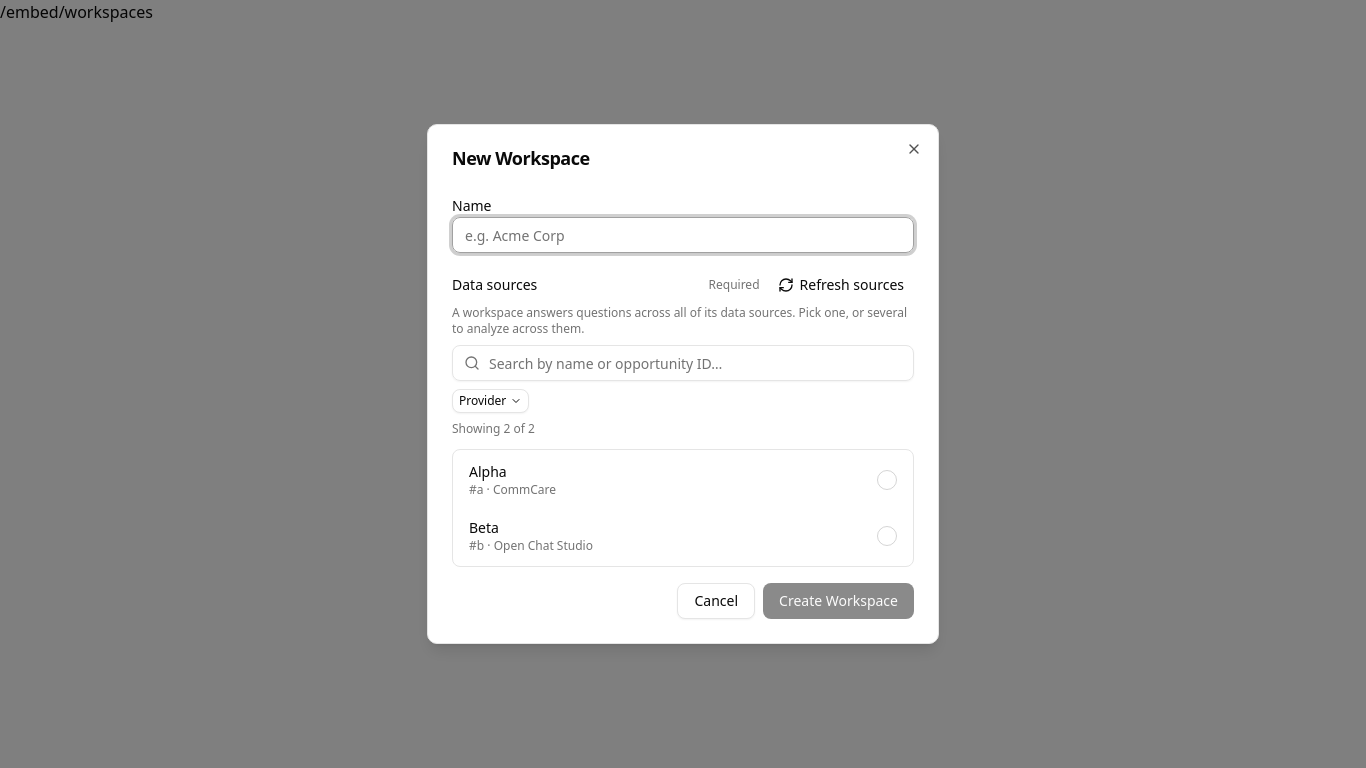
Test: keeps the embed prefix when opening the new workspace's chat
expect the element with test id "create-sources-list" is shown: met, box [452,449,914,567]
Type "Analysis" into the field labelled "Name" at (683, 235), box [452,217,914,253]
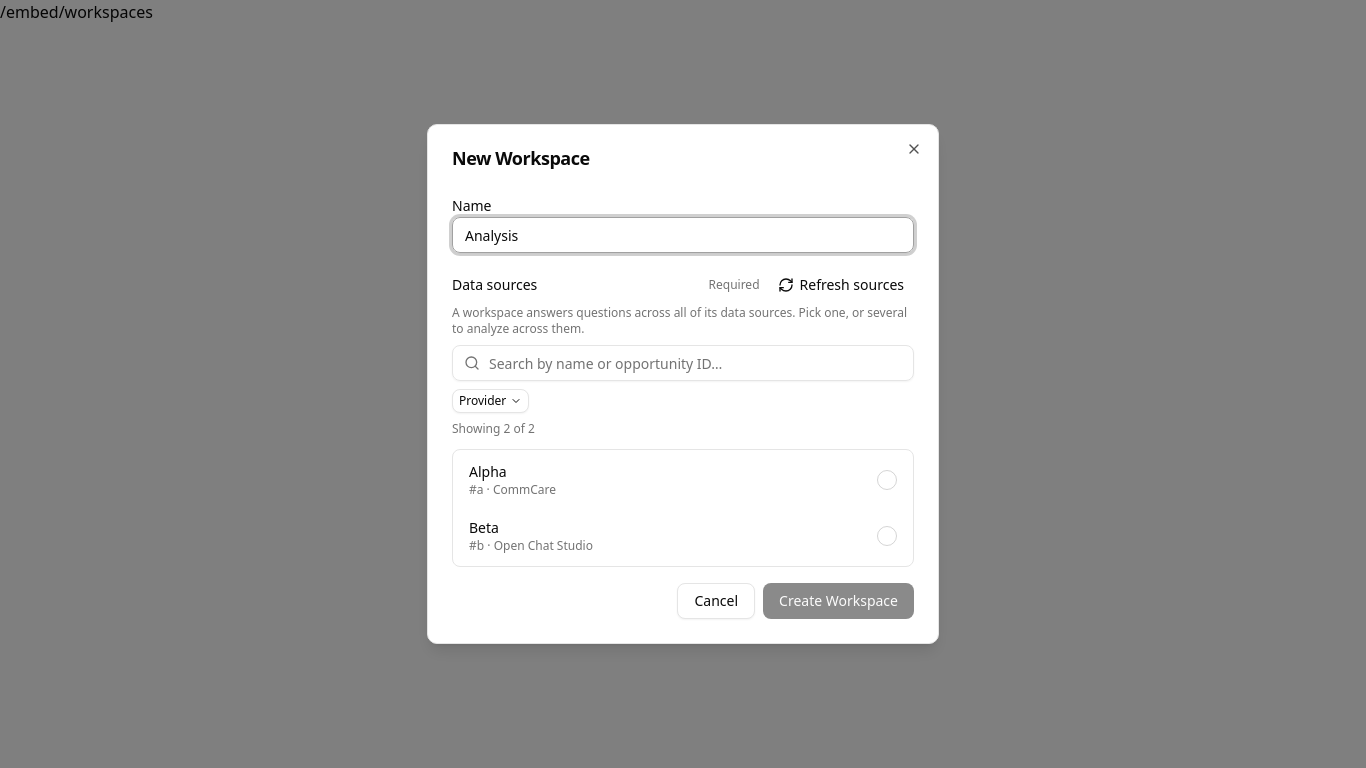
Click the button with test id "create-source-tenant-a" at (488, 472), box [457,454,909,506]
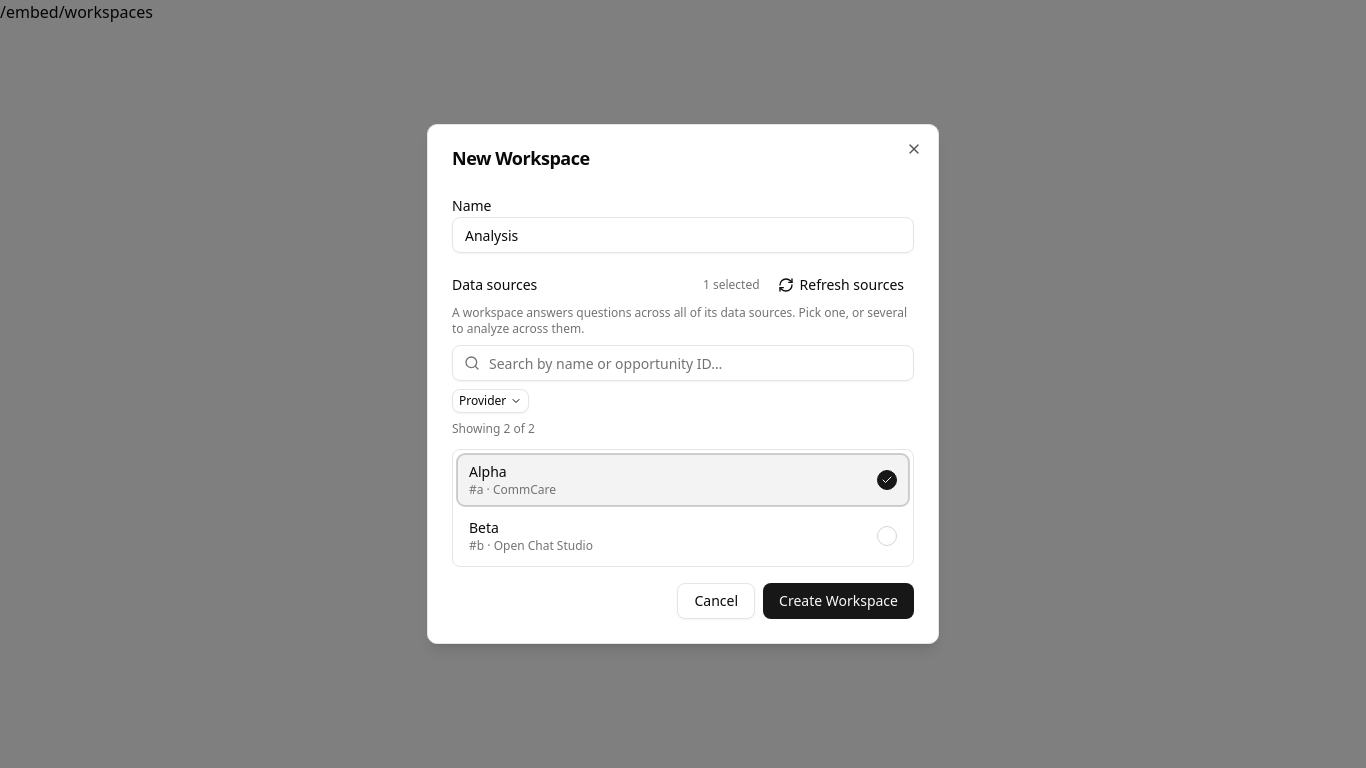
Click the button with test id "create-workspace-submit" at (838, 601), box [763,583,914,619]
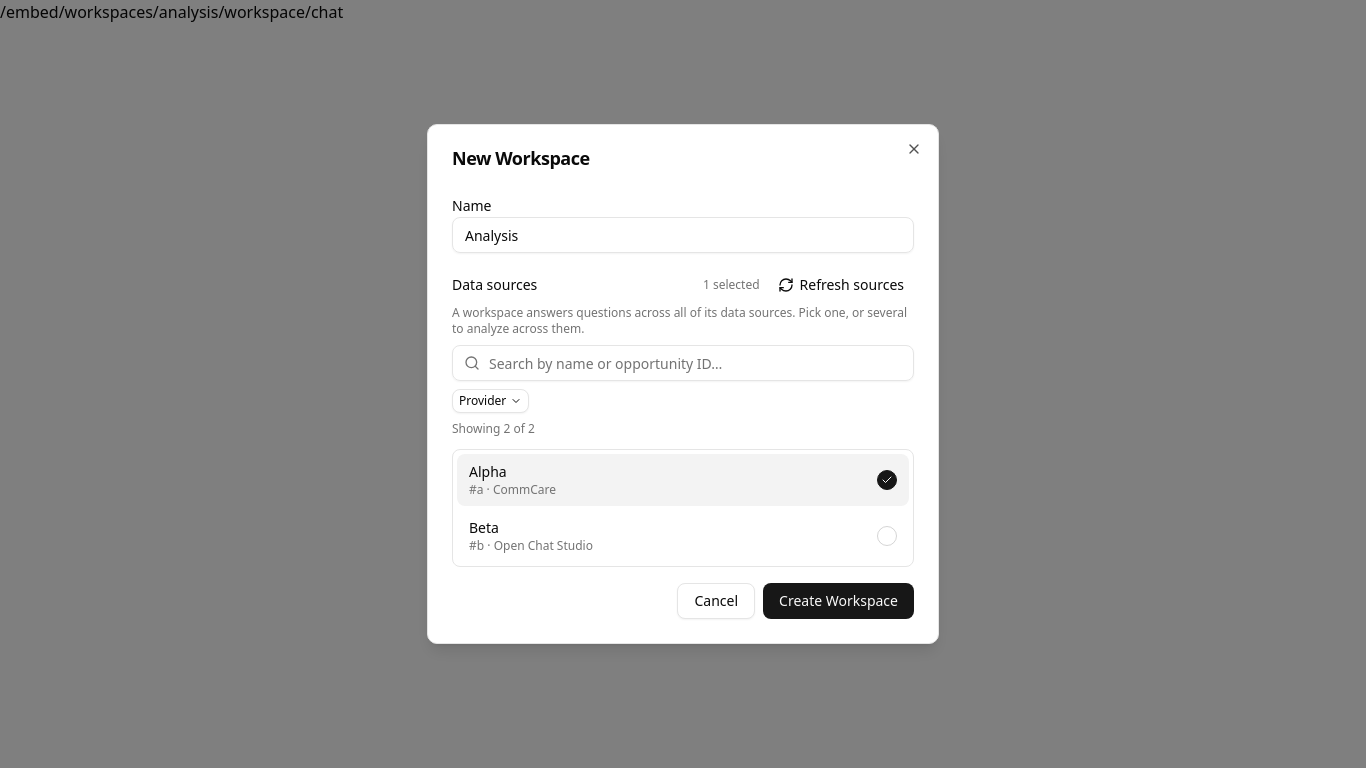
expect the text with test id "current-path" reads "/embed/workspaces/analysis/workspace/chat": met, box [0,1,343,23]
